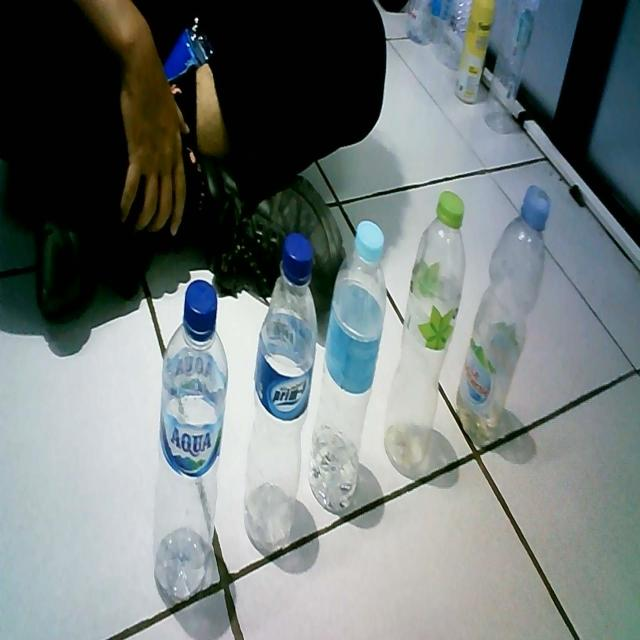botol: (456, 129, 571, 478), (240, 236, 325, 569), (308, 209, 394, 528), (148, 279, 228, 621), (386, 186, 472, 485)
